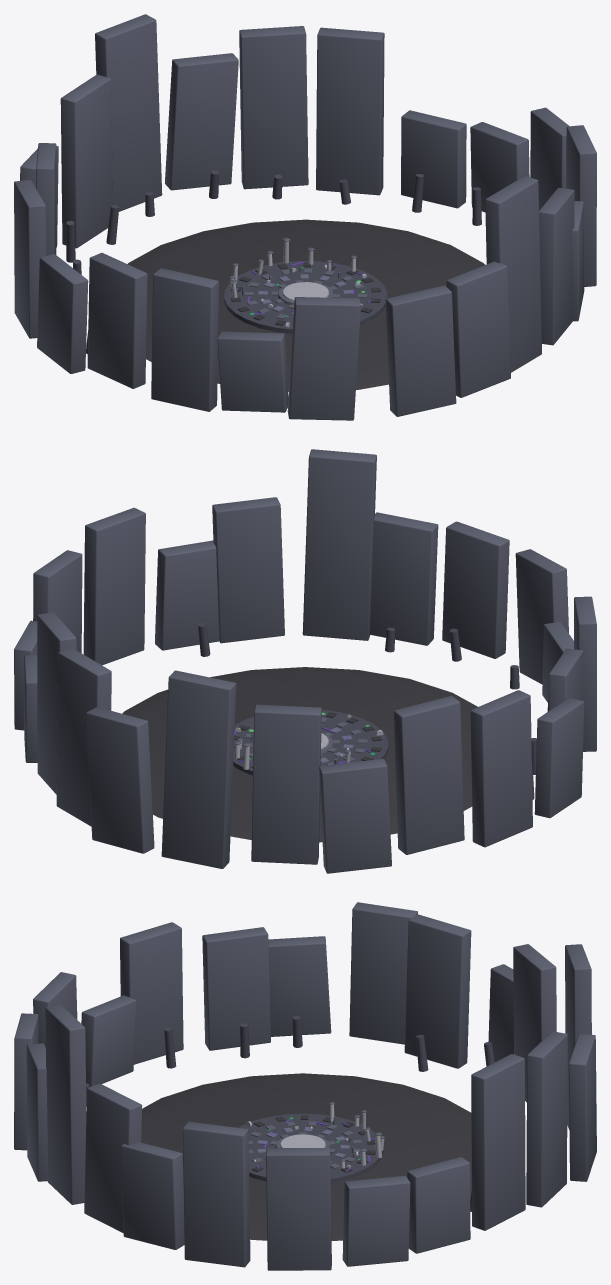
Rendered from shifting_idol.glb.
3 views of the same model, one above another, from view 1: azimuth 30°, elevation 25°; view 2: azimuth 150°, elevation 25°; view 3: azimuth 270°, elevation 25° (orthographic). The views are drawn at different scales.
Parts seen in each view (by area): view 1: ShiftingIdolGround; view 2: ShiftingIdolGround; view 3: ShiftingIdolGround.
Boxes of the visible parts, bbox=[...] form: ShiftingIdolGround: bbox=[14, 14, 596, 420]; ShiftingIdolGround: bbox=[14, 449, 596, 873]; ShiftingIdolGround: bbox=[14, 902, 596, 1270].
Size of the model in its own units: 43.04 by 15.17 by 43.63.
Materials: 1 (1 with a texture image).
